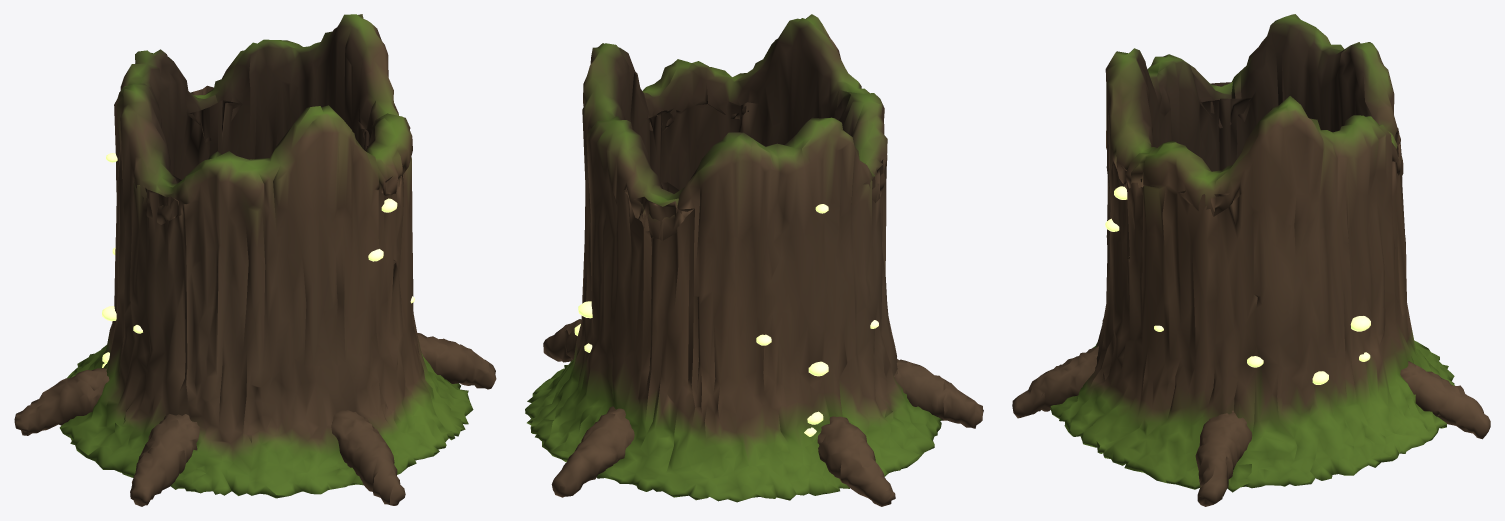
File: mire_rotten_stump.glb
3 views of the same model, side by side, from view 1: azimuth 30°, elevation 25°; view 2: azimuth 150°, elevation 25°; view 3: azimuth 270°, elevation 25° (orthographic). The views are drawn at different scales.
Parts seen in each view (by area): view 1: mire_rotten_stump; view 2: mire_rotten_stump; view 3: mire_rotten_stump.
Boxes of the visible parts, <box> form: mire_rotten_stump: <box>14,14,496,506</box>; mire_rotten_stump: <box>525,14,983,506</box>; mire_rotten_stump: <box>1012,14,1490,506</box>.
Bounding box in the file's own units: 19.19 × 16.31 × 19.46.
